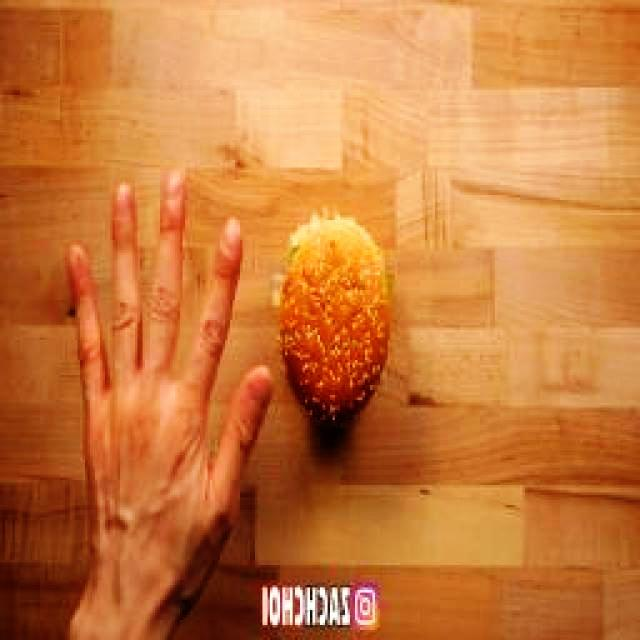burger: (275, 211, 393, 429)
